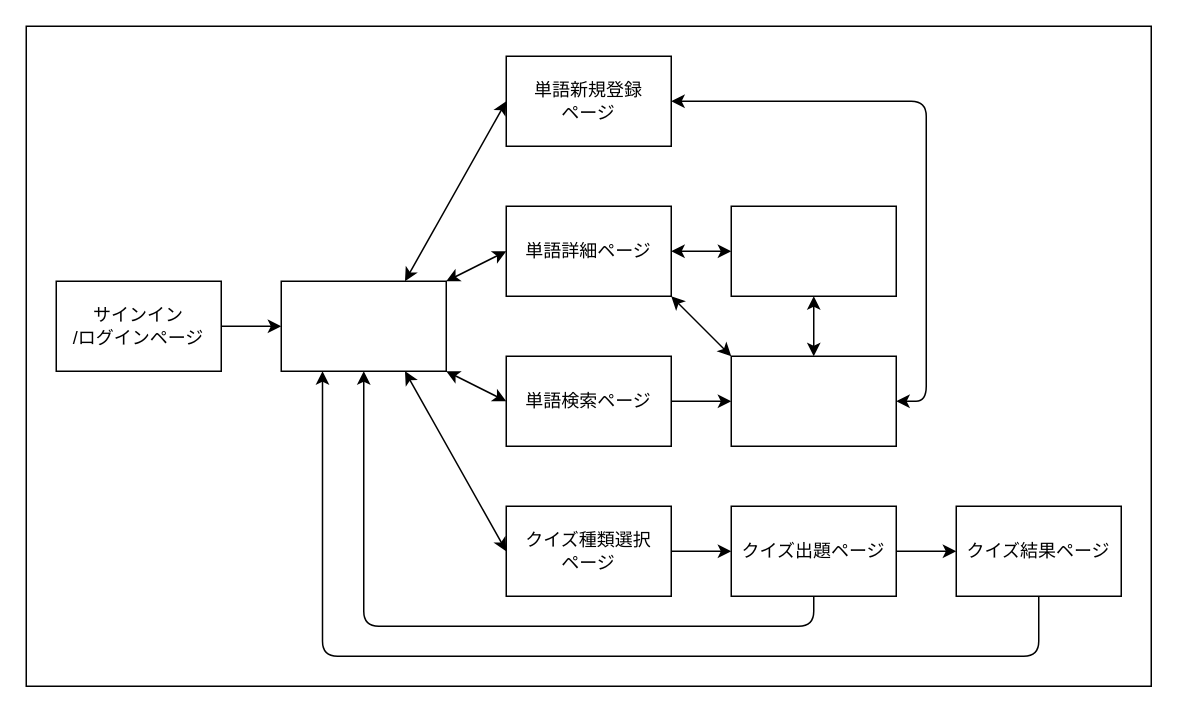
This 1178x713 diagram has some shape labels left out. Each missing label, with the centre of its shape:
"トップページ （単語一覧ページ）" goes at [363,325].
"単語検索結果表示 ページ" goes at [813,400].
"単語編集ページ" goes at [813,250].
